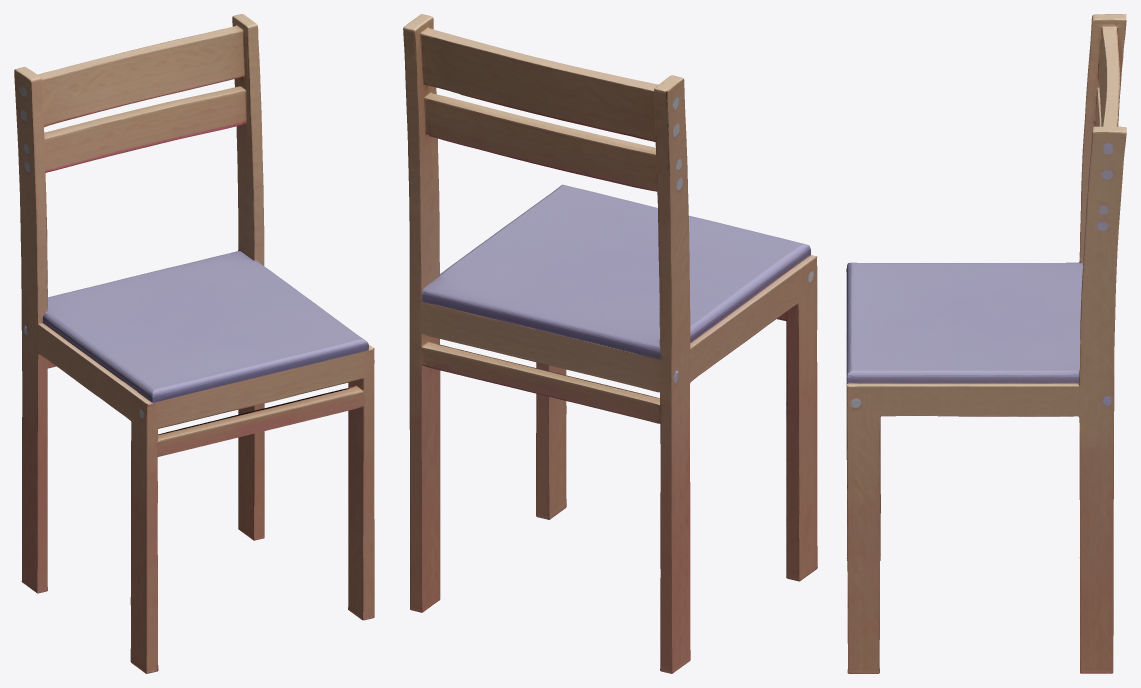
Rendered from original_slat.glb.
3 views of the same model, side by side, from view 1: azimuth 30°, elevation 25°; view 2: azimuth 150°, elevation 25°; view 3: azimuth 270°, elevation 25° (orthographic). The views are drawn at different scales.
Visible parts, largest first — view 1: world; view 2: world; view 3: world.
Part boxes in pixels (left/top/right/bottom): world: left=14, top=14, right=374, bottom=673; world: left=403, top=14, right=817, bottom=673; world: left=846, top=14, right=1126, bottom=673.
Bounding box in the file's own units: 0.3905 × 0.8284 × 0.3883.
Materials: 1 (1 with a texture image).
